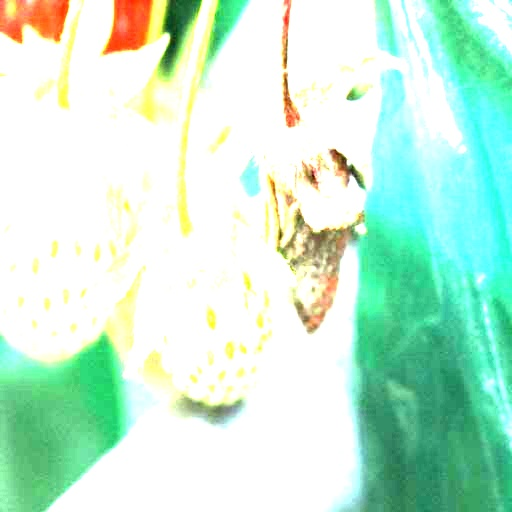Gray Mold: (256, 53, 411, 337)
